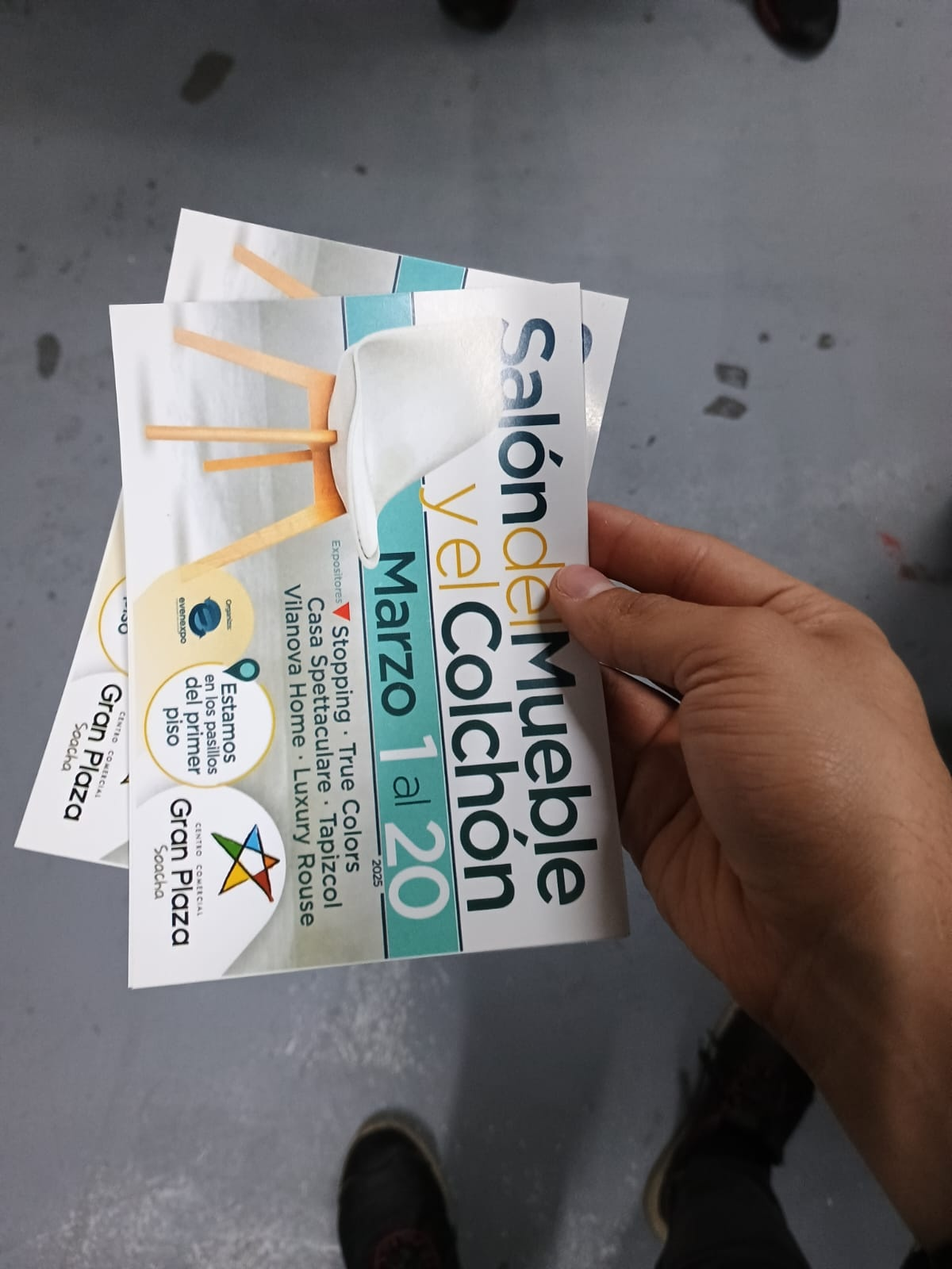Papel: (9, 207, 632, 986)
